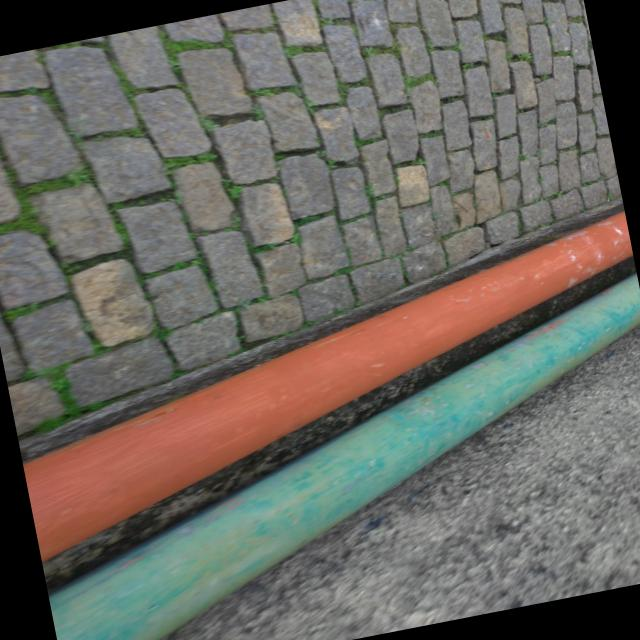gas: (54, 275, 640, 640), (31, 210, 633, 560)
